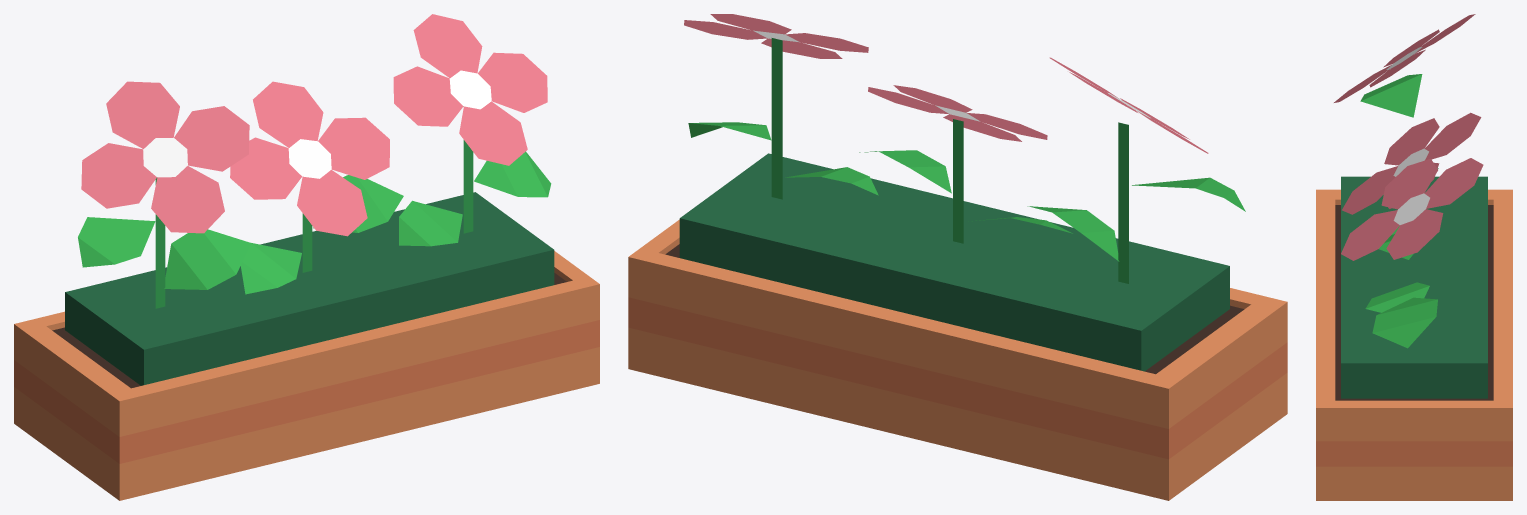
Rendered from Decoration_FlowerBox.FBX.
3 views of the same model, side by side, from view 1: azimuth 30°, elevation 25°; view 2: azimuth 150°, elevation 25°; view 3: azimuth 270°, elevation 25° (orthographic). The views are drawn at different scales.
Parts seen in each view (by area): view 1: Decoration_FlowerBox; view 2: Decoration_FlowerBox; view 3: Decoration_FlowerBox.
Boxes of the visible parts, x1,y1,x2,y2 form: Decoration_FlowerBox: (14, 14, 599, 500); Decoration_FlowerBox: (628, 14, 1287, 500); Decoration_FlowerBox: (1316, 14, 1512, 500).
Bounding box in the file's own units: 100 × 66.23 × 37.98.
